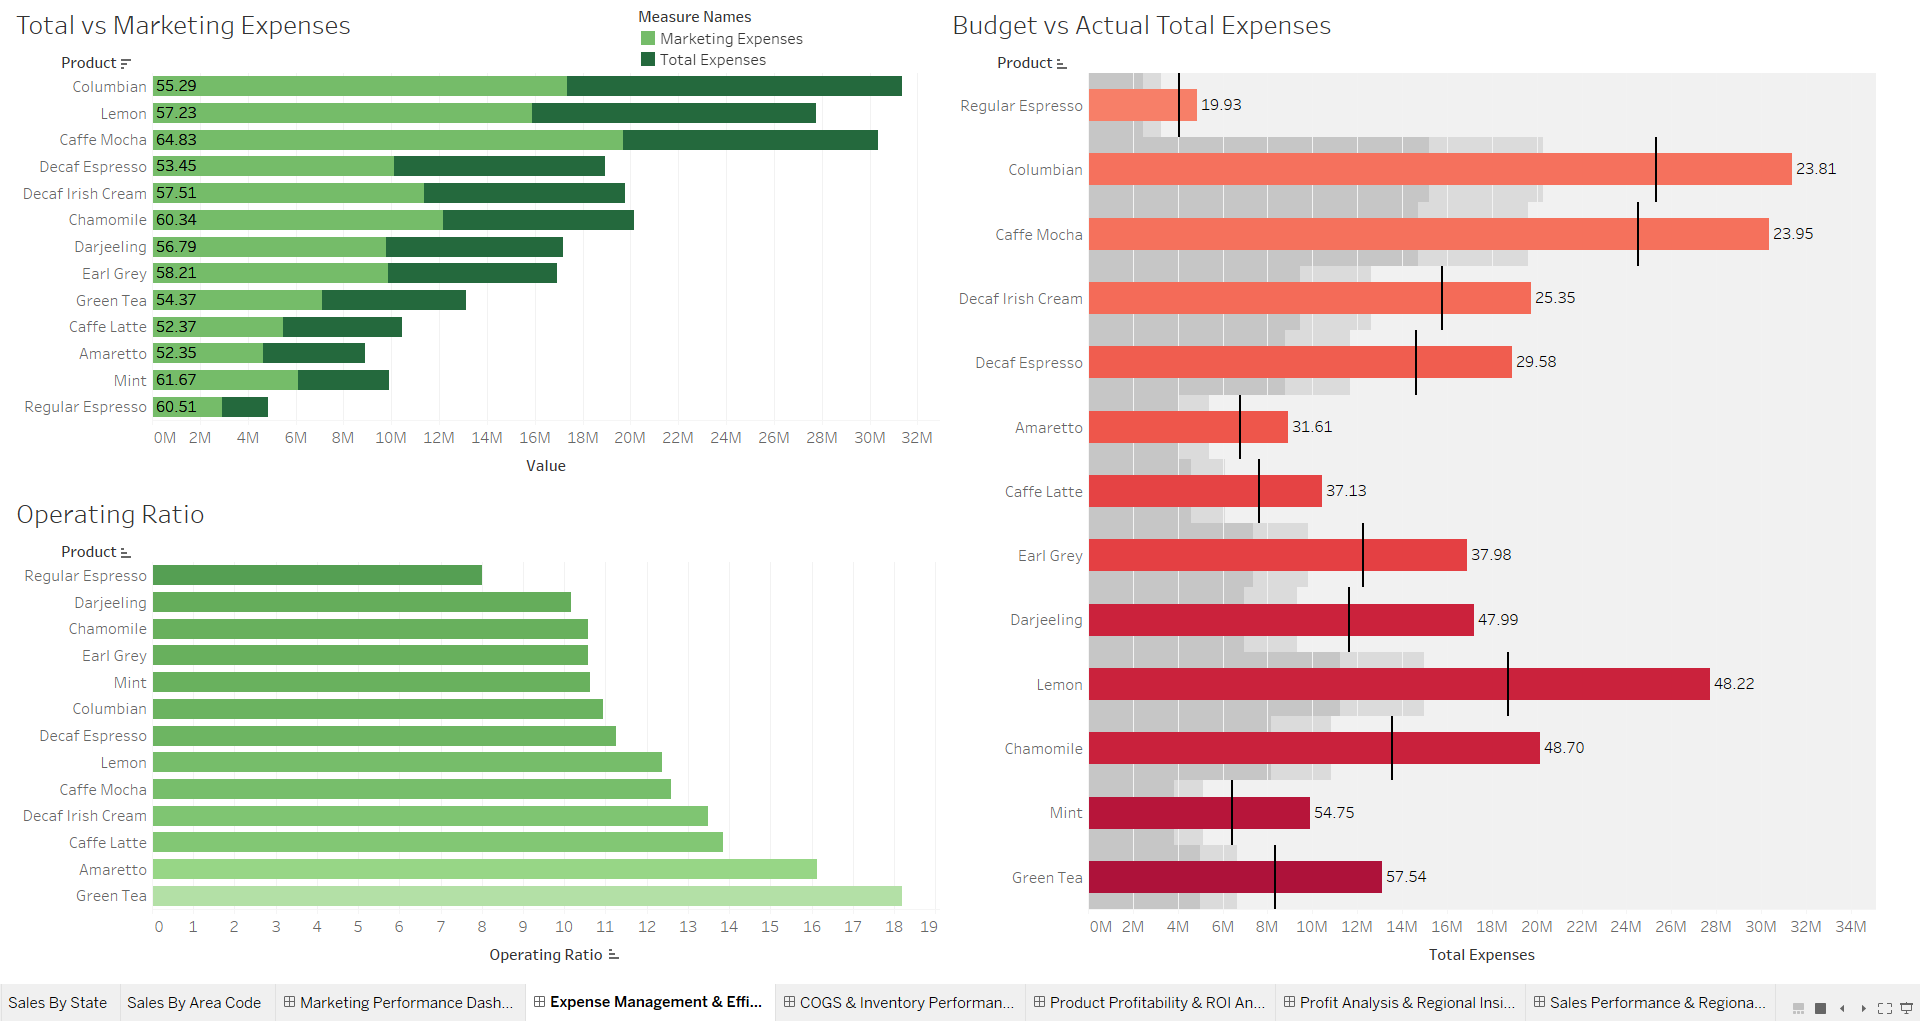

Layout of this report page (visuals, bound fields, positions):
{"tool":"tableau","page":{"name":"Expense Management & Efficiency Dashboard","canvas":[1000,1000],"units":"permille","ordinal":1},"visuals":[{"type":"worksheet","title":"Total Expenses","mark":"Automatic","rows":["Product"],"box":[4.2,8.1,454.2,491.9]},{"type":"worksheet","title":"Total Expenses Comparison","mark":"Automatic","rows":["Product"],"cols":["Total Expenses"],"box":[458.3,8.1,454.2,983.9]},{"type":"legend","title":"Total Expenses","param":"[federated.03toz571cx6otw1eec3mr0x40p7i].[:Measure Names]","box":[912.5,8.1,83.3,72.5]},{"type":"worksheet","title":"Operating Ratio","mark":"Automatic","rows":["Product"],"cols":["Calculation_938156136777203729"],"box":[4.2,500,454.2,491.9]}]}

Visuals, with their boxes on the dashboard's canvas, which has no fixed pixel size, in thousandths of its width and height (x1, y1, x2, y2). These are canvas units, not pixel positions in the 1920x1021 screenshot, which may show the page scaled, cropped or inside an application window:
"Total Expenses" worksheet: left=4, top=8, right=458, bottom=500
"Total Expenses Comparison" worksheet: left=458, top=8, right=912, bottom=992
"Total Expenses" legend: left=912, top=8, right=996, bottom=81
"Operating Ratio" worksheet: left=4, top=500, right=458, bottom=992
